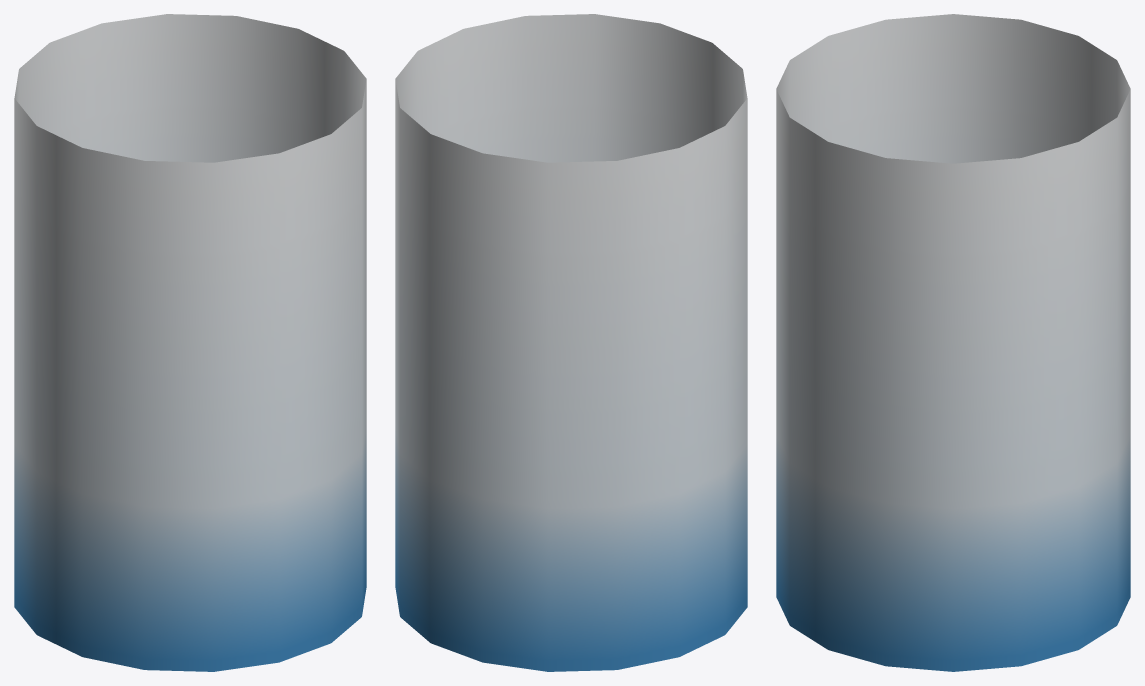
The model's file is arrow_circle.fbx.
3 renders of one model, left to right at view 1: azimuth 30°, elevation 25°; view 2: azimuth 150°, elevation 25°; view 3: azimuth 270°, elevation 25°, orthographic.
Parts seen in each view (by area): view 1: StuntCollider.002; view 2: StuntCollider.002; view 3: StuntCollider.002.
Boxes of the visible parts, left/top/right/bottom form: StuntCollider.002: left=14, top=14, right=366, bottom=671; StuntCollider.002: left=395, top=14, right=747, bottom=671; StuntCollider.002: left=776, top=14, right=1130, bottom=671.
Bounding box in the file's own units: 1200 × 1899 × 1200.
